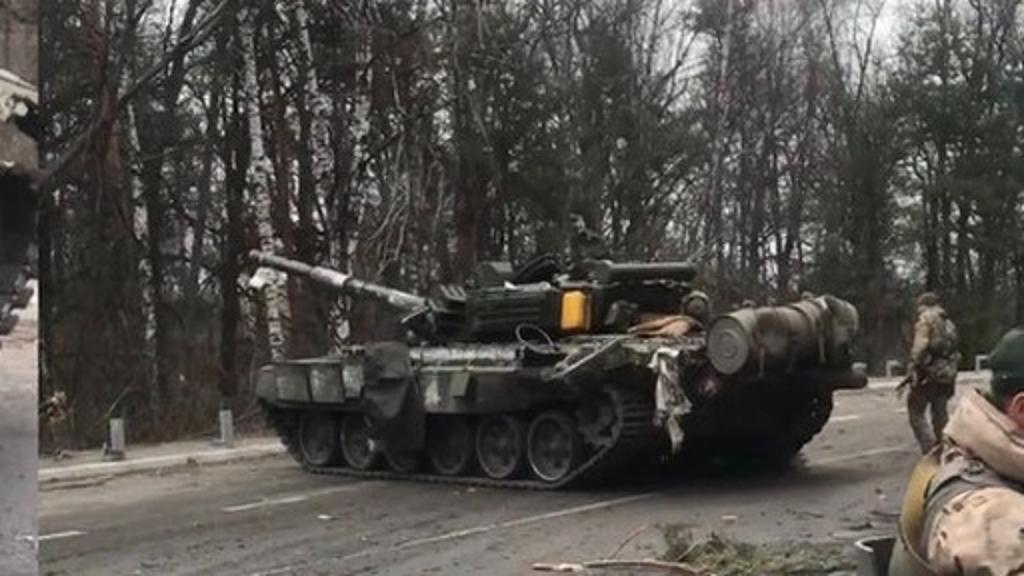TANK: (234, 218, 878, 508)
